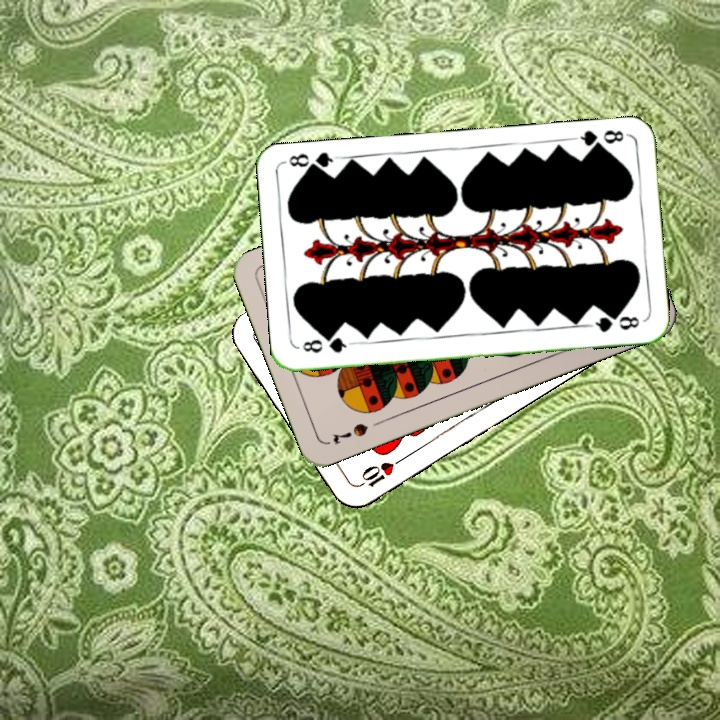G8: (570, 126, 629, 154), (298, 333, 354, 356)
H10: (353, 453, 406, 491)
S7: (328, 419, 371, 447)
